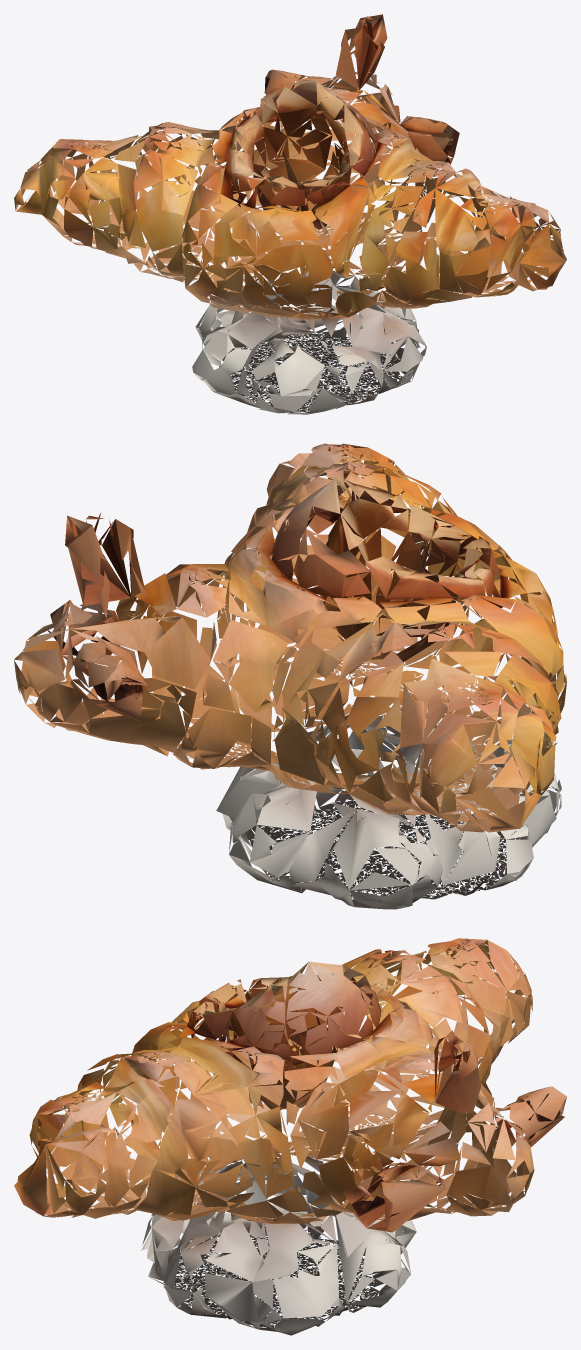
File: prop-golden-croissant.glb
3 views of the same model, one above another, from view 1: azimuth 30°, elevation 25°; view 2: azimuth 150°, elevation 25°; view 3: azimuth 270°, elevation 25° (orthographic). The views are drawn at different scales.
Visible parts, largest first — view 1: tripo_node_53acf263-0c6a-48c9-bb55-8e7f87d29a7d; view 2: tripo_node_53acf263-0c6a-48c9-bb55-8e7f87d29a7d; view 3: tripo_node_53acf263-0c6a-48c9-bb55-8e7f87d29a7d.
Boxes of the visible parts, x1,y1,x2,y2 form: tripo_node_53acf263-0c6a-48c9-bb55-8e7f87d29a7d: (14,14,566,414); tripo_node_53acf263-0c6a-48c9-bb55-8e7f87d29a7d: (14,443,566,909); tripo_node_53acf263-0c6a-48c9-bb55-8e7f87d29a7d: (14,938,566,1335).
Size of the model in its own units: 0.9889 by 0.6599 by 0.9948.
1 material, 1 textured.
